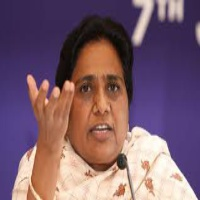ring: (56, 75, 71, 126)
